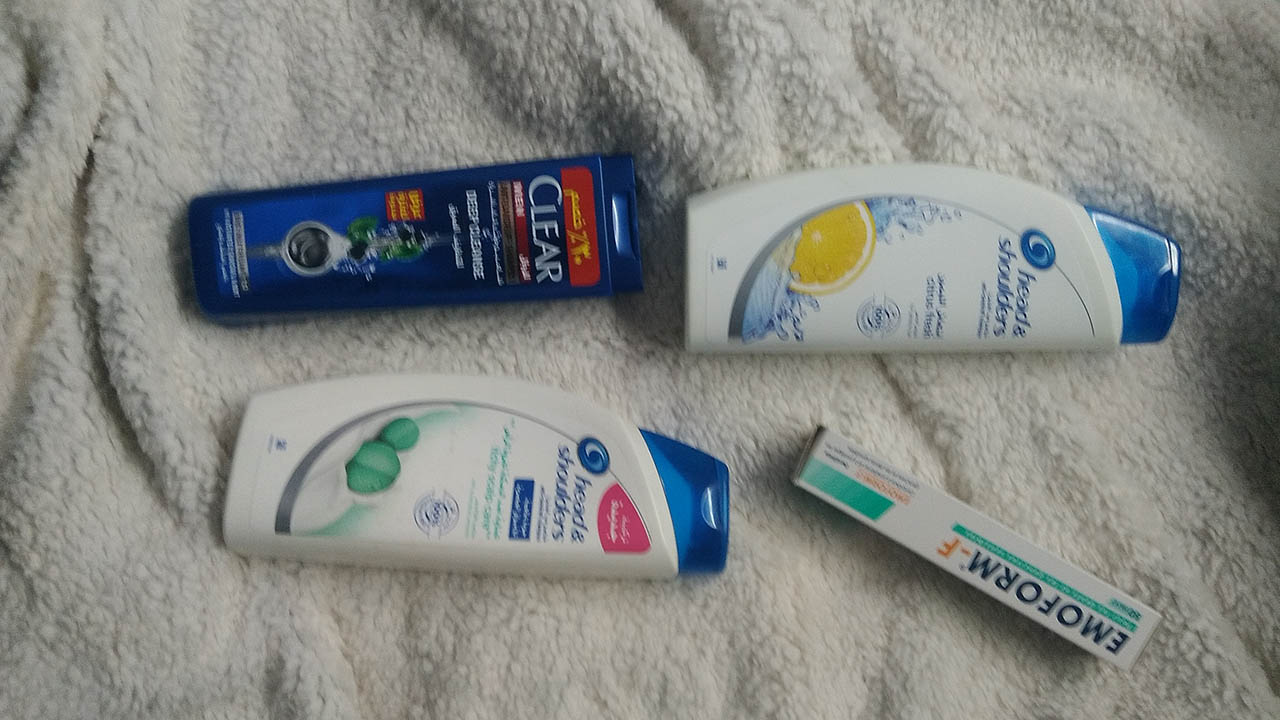Shampoo-Clear 4.7$: (167, 139, 658, 337)
Toothpaste-F 1.5$: (784, 411, 1201, 657)
shampoo-Lemon 3.5$: (672, 116, 1196, 384)
shampoo-green 4.5$: (221, 366, 749, 583)
